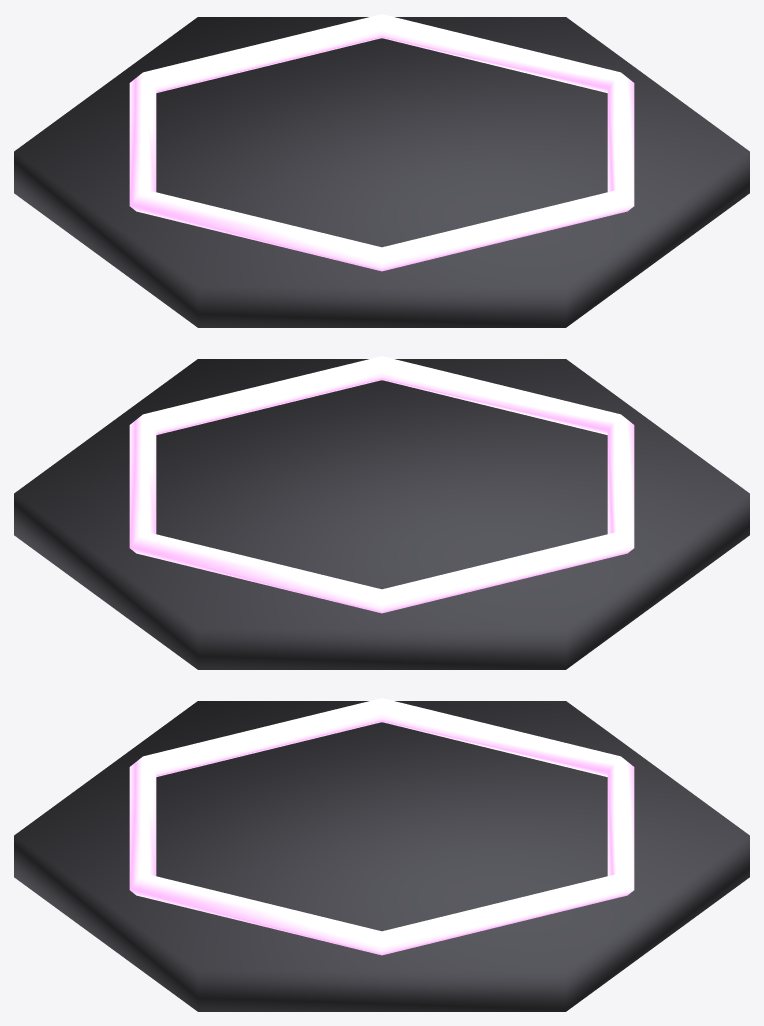
Rendered from rune_item_rune_plate.glb.
3 views of the same model, one above another, from view 1: azimuth 30°, elevation 25°; view 2: azimuth 150°, elevation 25°; view 3: azimuth 270°, elevation 25° (orthographic).
Visible parts, largest first — view 1: GD_rune_item_rune_plate__m0, GD_rune_item_rune_plate__m1; view 2: GD_rune_item_rune_plate__m0, GD_rune_item_rune_plate__m1; view 3: GD_rune_item_rune_plate__m0, GD_rune_item_rune_plate__m1.
Boxes of the visible parts, x1,y1,x2,y2 form: GD_rune_item_rune_plate__m0: [14, 17, 749, 327]; GD_rune_item_rune_plate__m1: [129, 14, 634, 271]; GD_rune_item_rune_plate__m0: [14, 359, 749, 669]; GD_rune_item_rune_plate__m1: [129, 356, 634, 613]; GD_rune_item_rune_plate__m0: [14, 701, 749, 1011]; GD_rune_item_rune_plate__m1: [129, 698, 634, 955].
Bounding box in the file's own units: 0.2078 × 0.0225 × 0.24.
